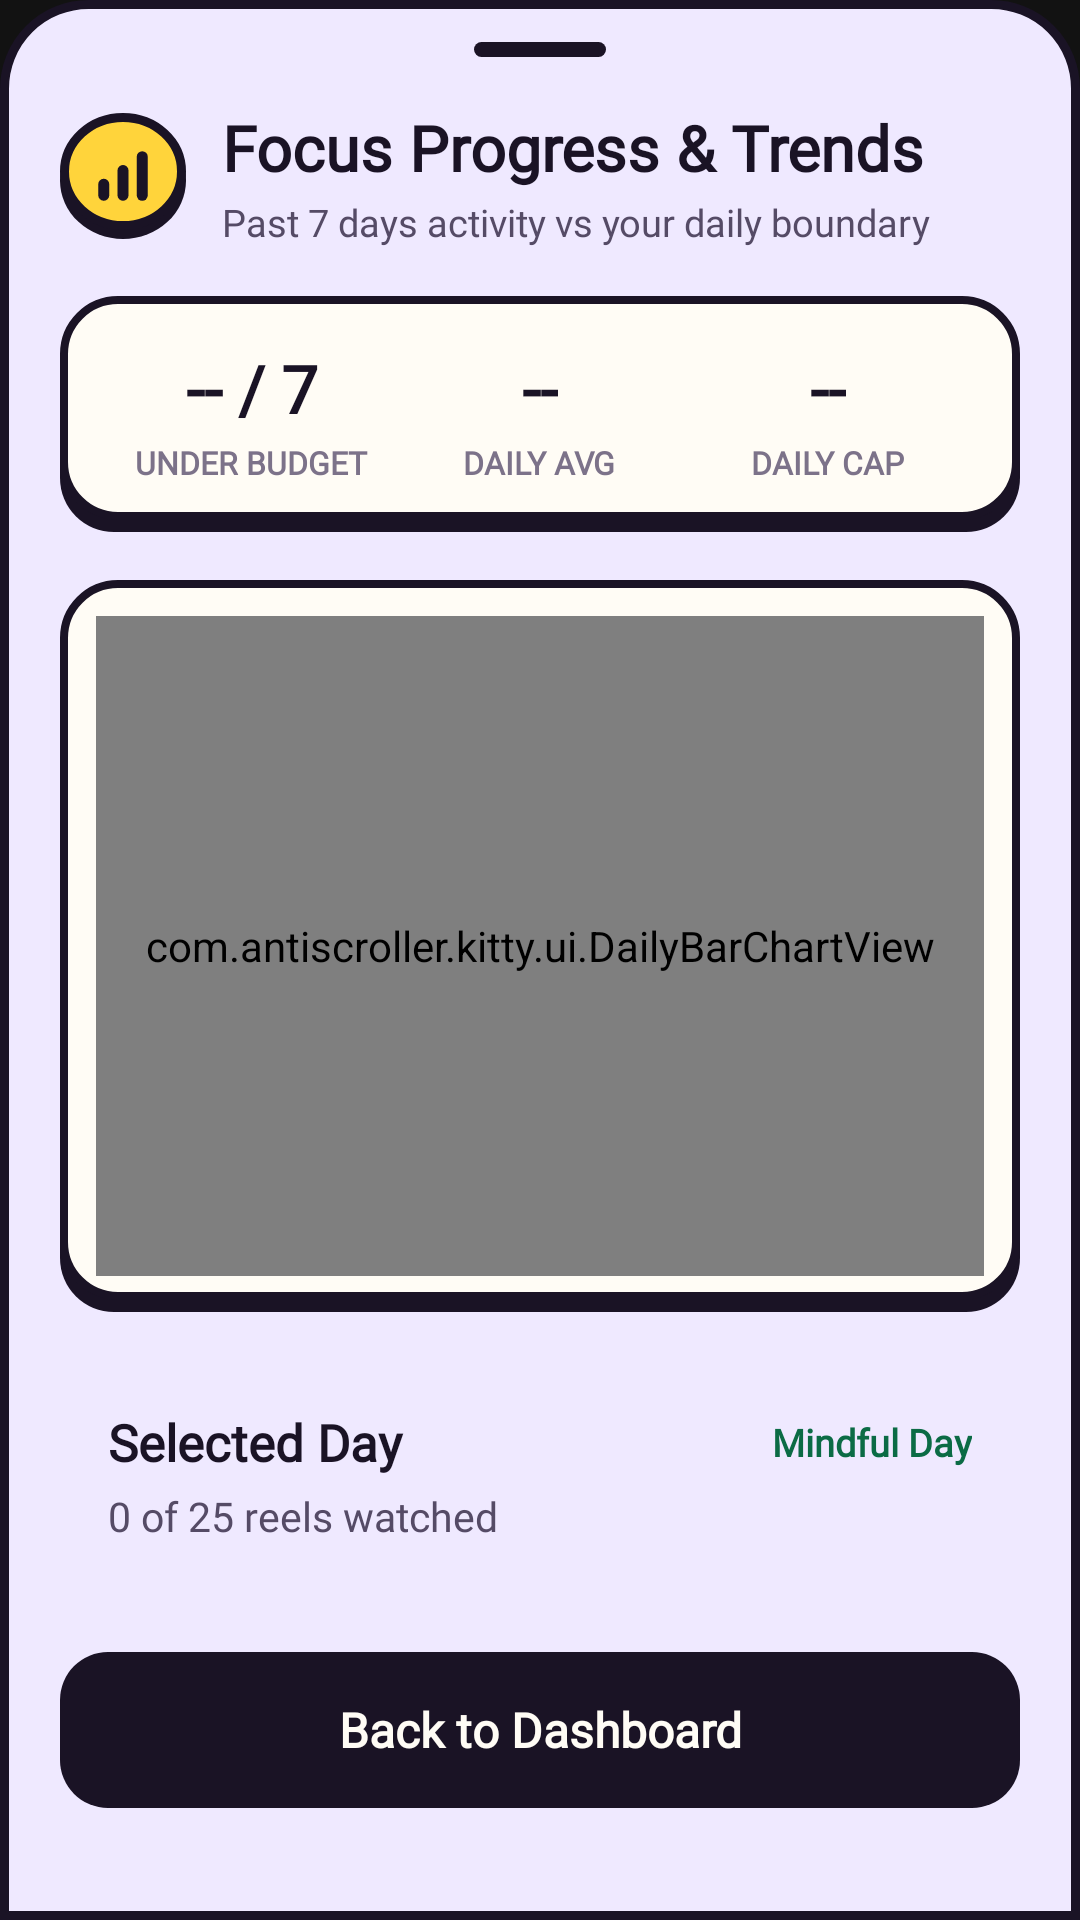

Named icons in this screenshot (1080px×1920px) and their centers, (x,y):
chart progress: (123,176)
